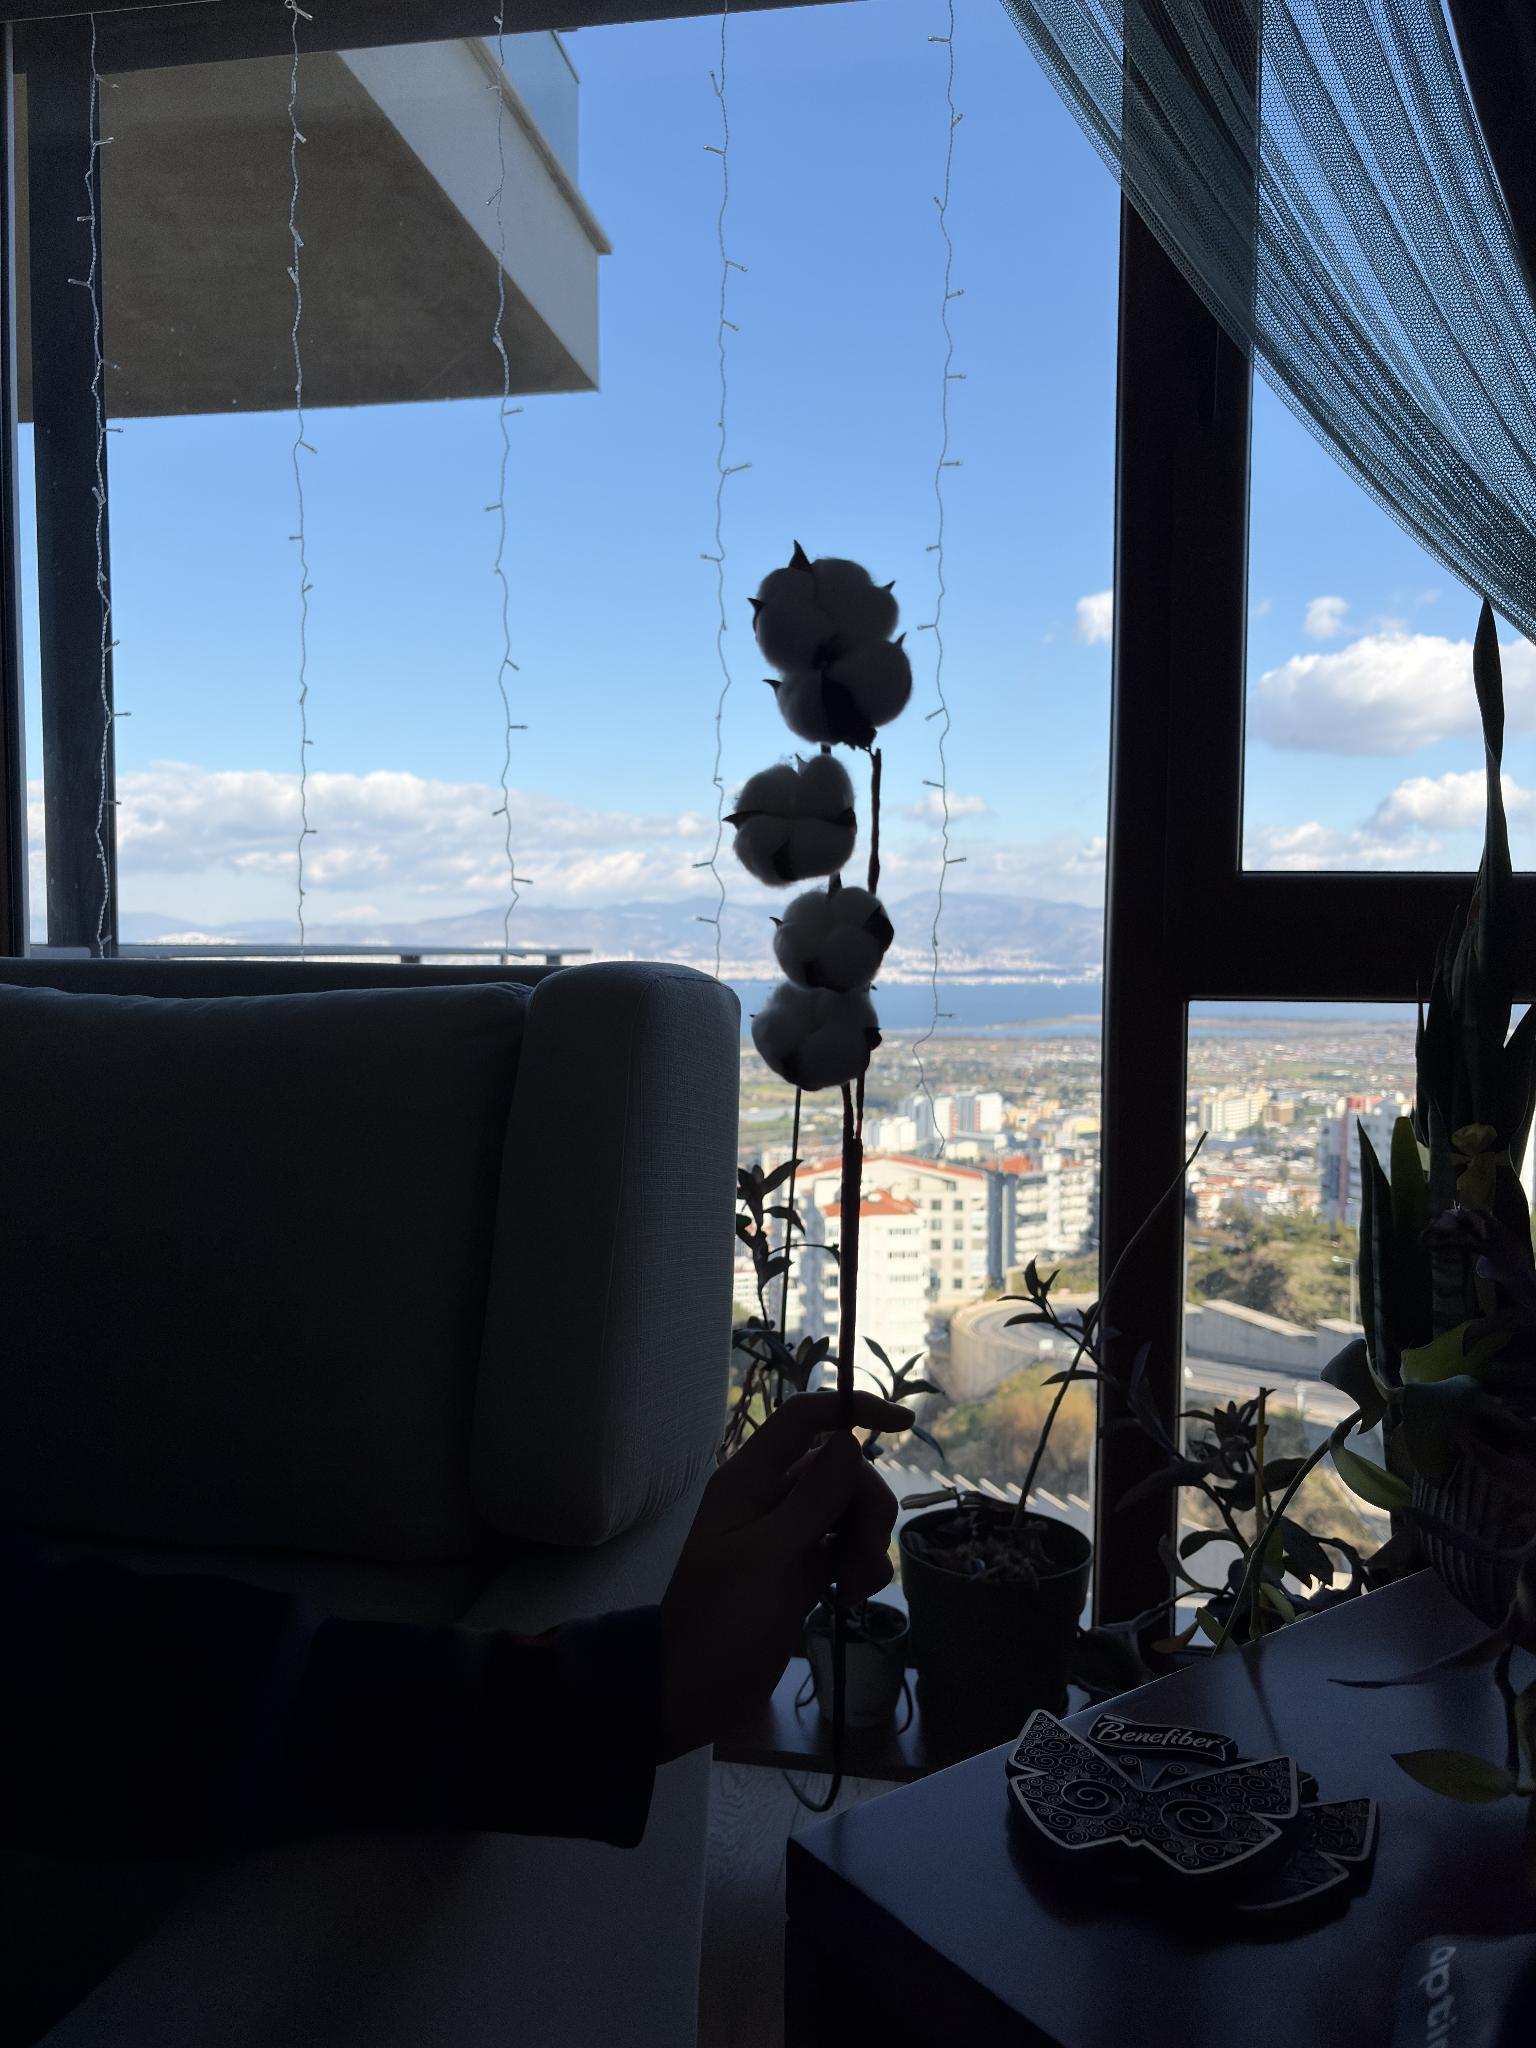cotton_boll: (826, 635, 912, 726), (753, 600, 834, 674), (797, 1021, 870, 1090), (823, 587, 899, 648), (752, 998, 807, 1077), (776, 669, 834, 743), (818, 927, 883, 992), (786, 819, 855, 879), (797, 755, 855, 821), (734, 816, 787, 887), (736, 763, 799, 813), (810, 987, 878, 1029), (774, 921, 818, 979), (812, 558, 873, 598), (779, 889, 831, 932), (829, 889, 883, 926), (755, 568, 813, 601), (768, 980, 815, 1008)
cotton_boll-cluster: (753, 555, 913, 748), (731, 753, 858, 889), (750, 979, 879, 1093), (771, 885, 887, 993)
